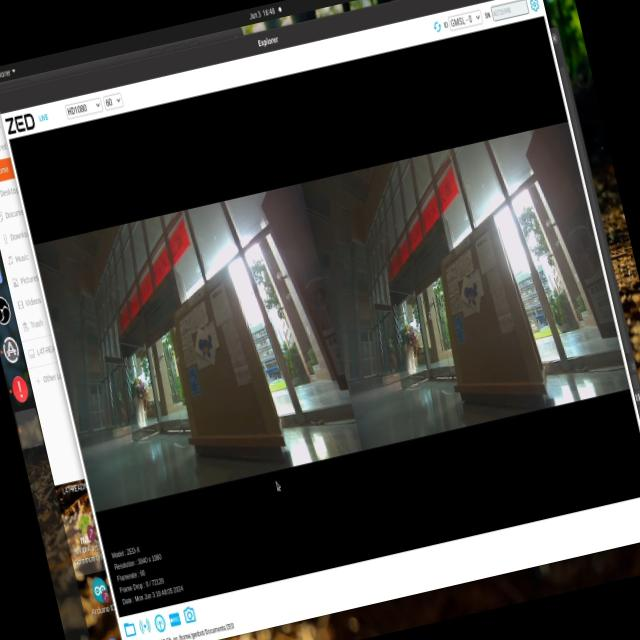blue: (186, 329, 230, 369), (464, 277, 481, 307)
